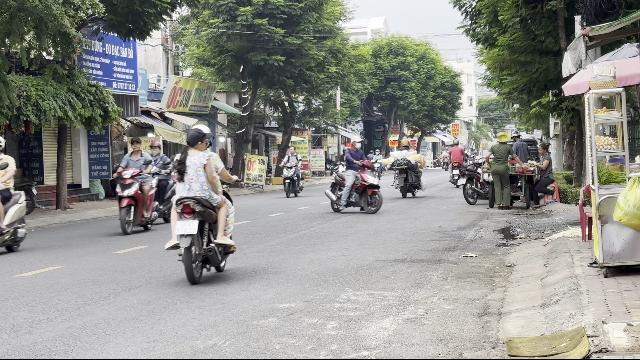licenseplate: (175, 220, 197, 234)
motorcyclist: (163, 122, 239, 282), (324, 136, 384, 216), (111, 134, 159, 233)
nohelmet: (184, 128, 212, 154), (128, 136, 142, 154), (348, 136, 362, 150)
